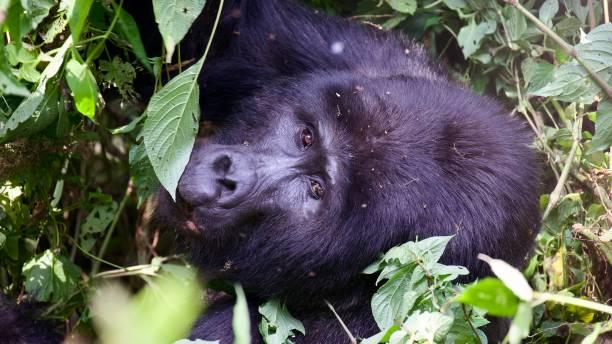goriile_montagne: (132, 0, 549, 344)
